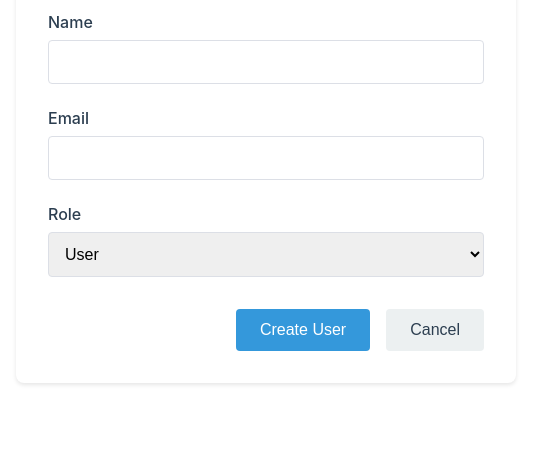
Test case: UserForm › Form Validation › shows validation errors for empty required fields
# Submit form without filling required fields
What coordinates should you click on to do the following:
click the button with test id "submit-button"
I would click on:
 (303, 330)
Its box is [236, 309, 370, 351].
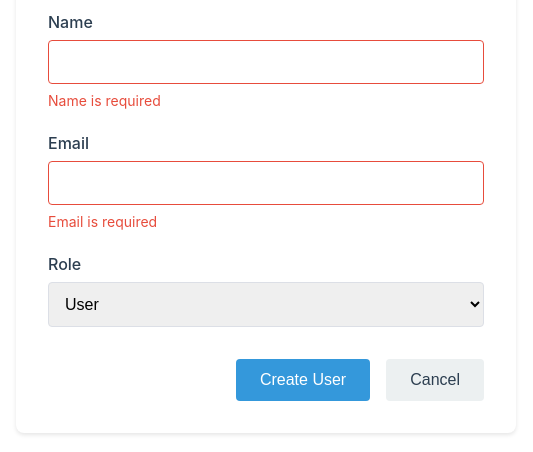
Check: the text with test id "name-error" reads "Name is required", box [48, 92, 161, 109]
Check: the text with test id "email-error" reads "Email is required", box [48, 213, 157, 230]
